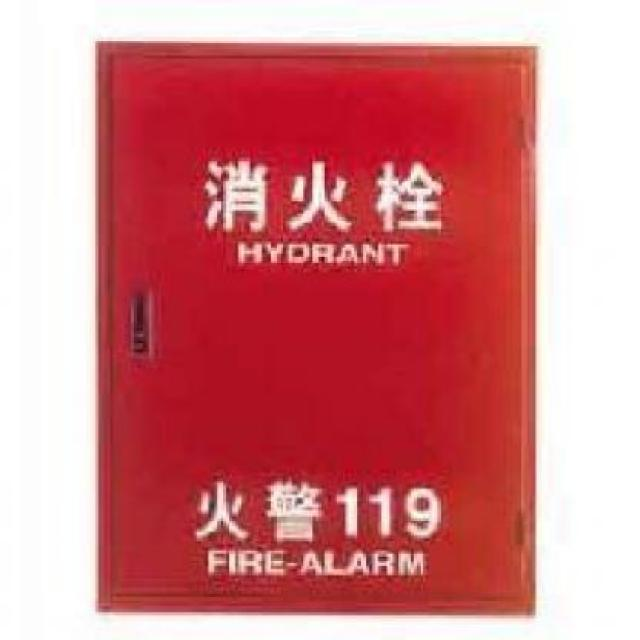firehydrant: (88, 31, 546, 624)
